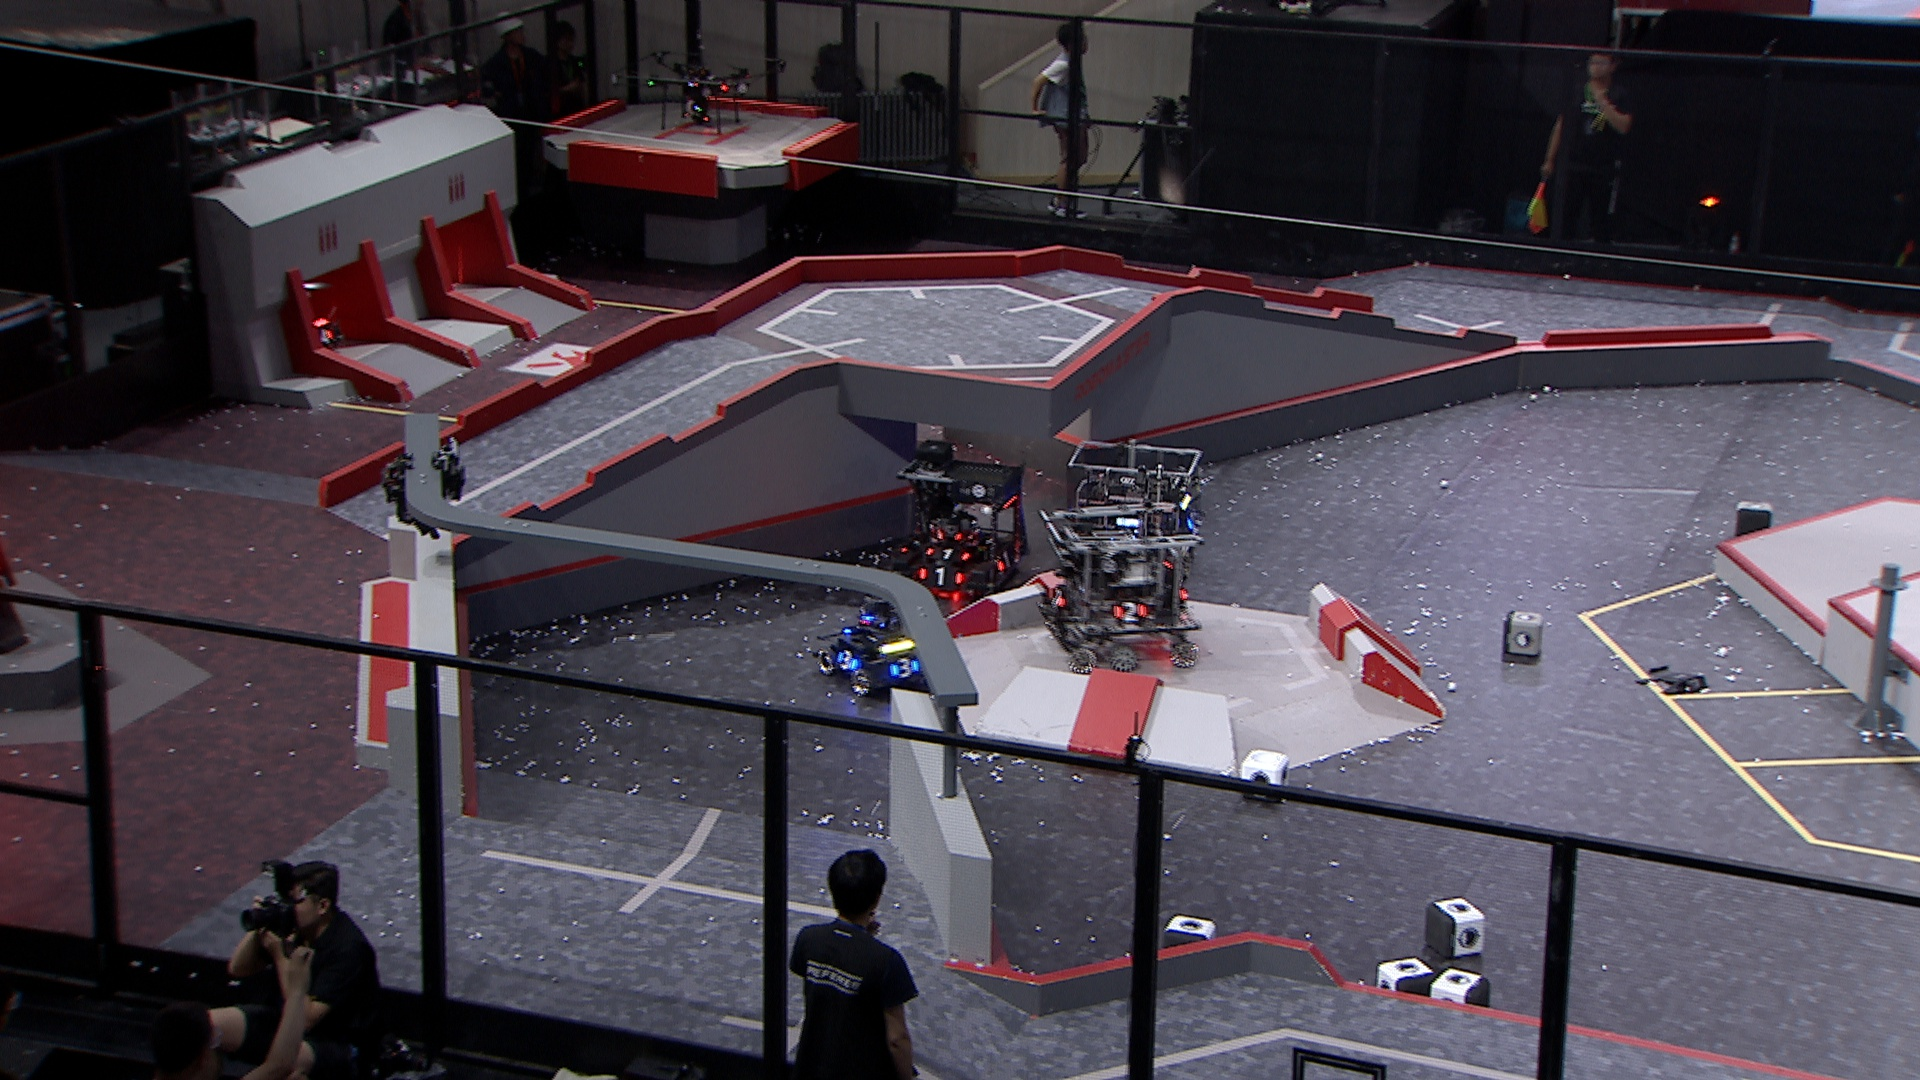armor: (916, 566, 967, 589), (920, 545, 975, 562), (885, 655, 920, 680), (833, 647, 861, 674), (1114, 603, 1149, 622), (1050, 585, 1069, 615), (993, 549, 1015, 572), (315, 328, 335, 347)
car: (1034, 502, 1200, 675), (1065, 439, 1207, 589), (891, 454, 1030, 603), (814, 585, 930, 698), (258, 285, 348, 353)
watcher: (378, 438, 467, 542)
